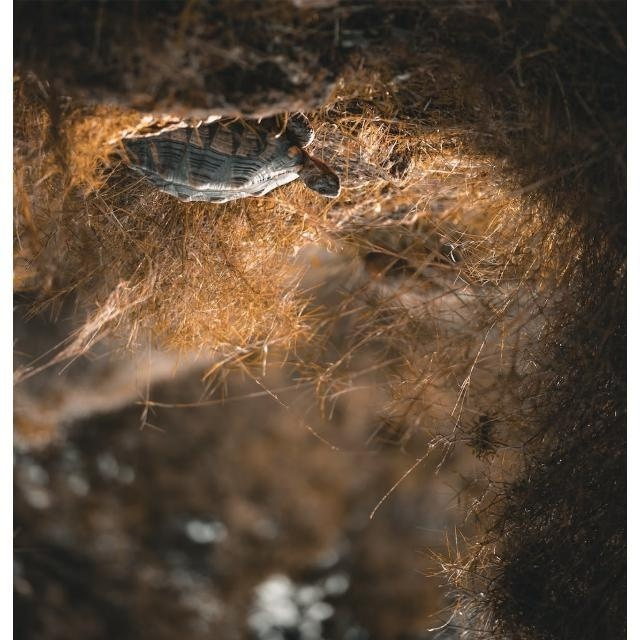turtle: (109, 110, 341, 203)
